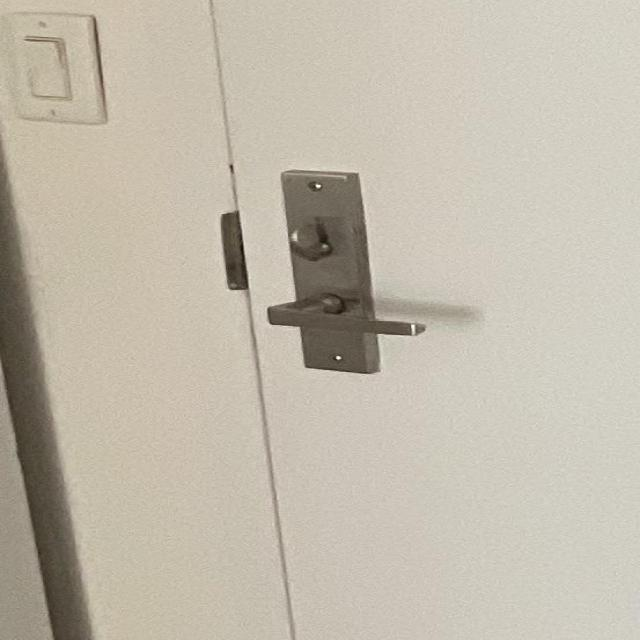door_handle: (249, 285, 447, 346)
